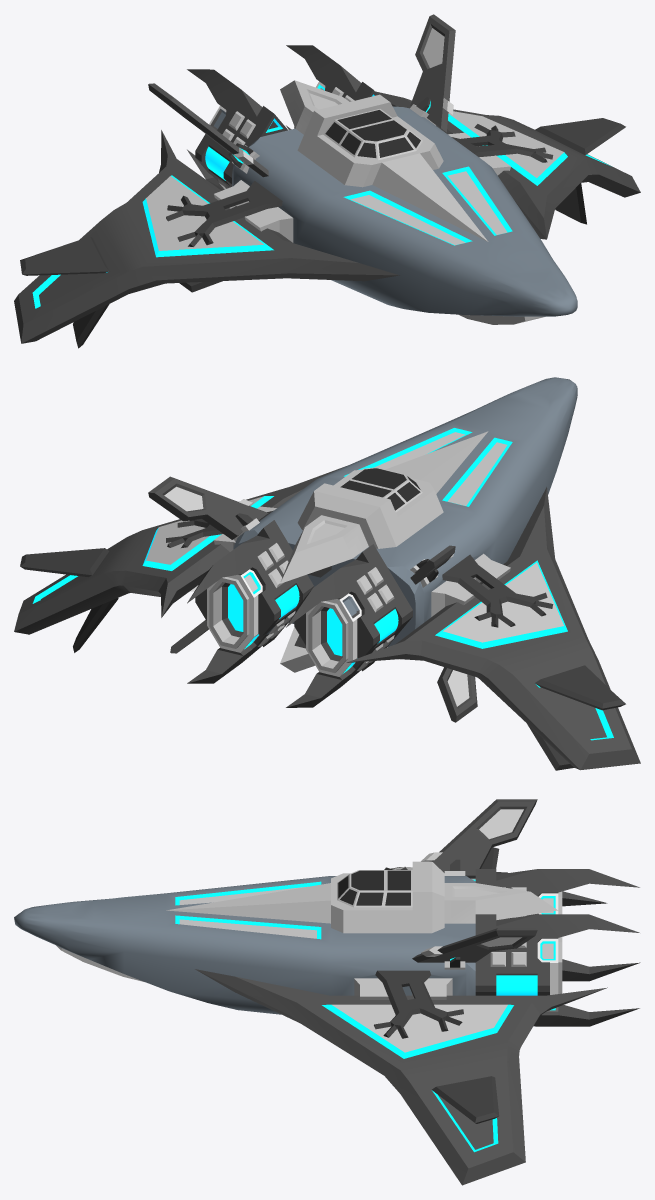
The model's file is Corvette05.fbx.
3 renders of one model, top to bottom at view 1: azimuth 30°, elevation 25°; view 2: azimuth 150°, elevation 25°; view 3: azimuth 270°, elevation 25°, orthographic. The views are drawn at different scales.
Visible parts, largest first — view 1: Mesh_HD; view 2: Mesh_HD; view 3: Mesh_HD.
Part boxes in pixels (box(x1,y1,x2,y2)): Mesh_HD: box(14, 14, 640, 348); Mesh_HD: box(14, 377, 640, 770); Mesh_HD: box(14, 799, 640, 1185).
Bounding box in the file's own units: 814 × 260 × 759.
